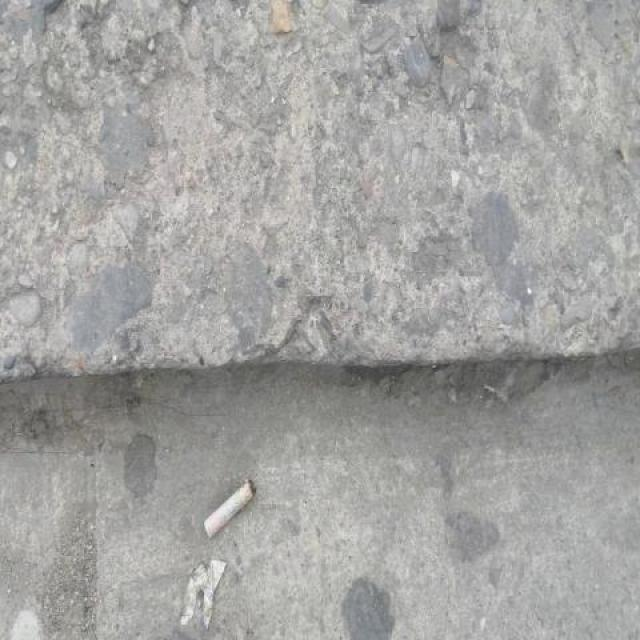non-organic waste: (200, 474, 257, 539)
